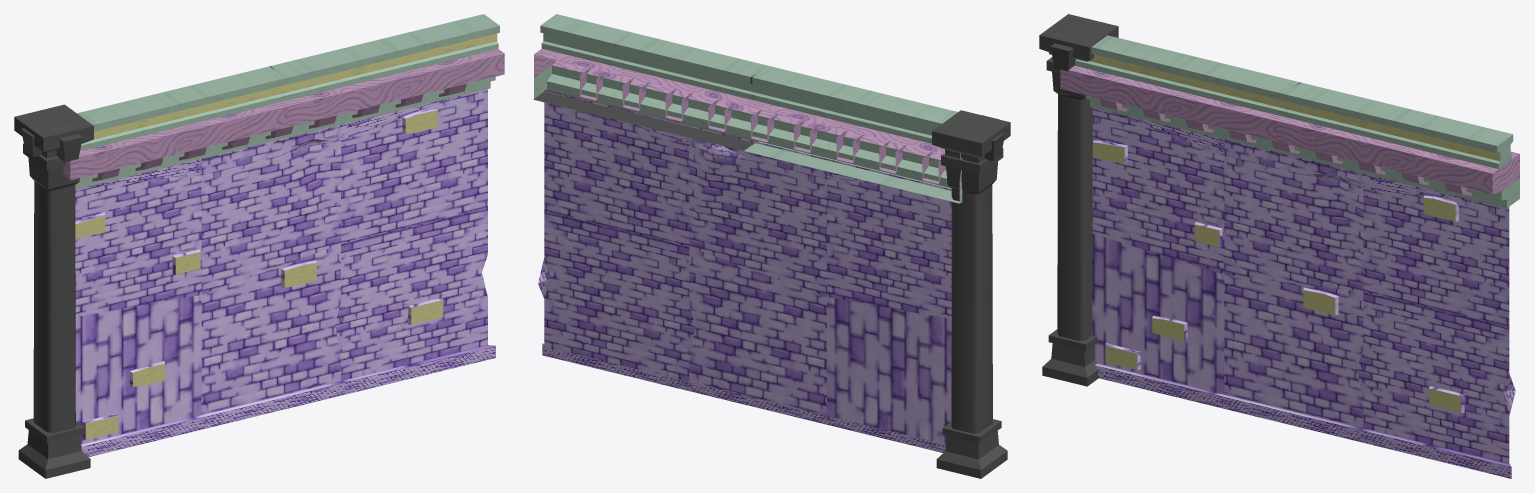
File: House_Wall_05_1Pillars.fbx
3 views of the same model, side by side, from view 1: azimuth 30°, elevation 25°; view 2: azimuth 150°, elevation 25°; view 3: azimuth 330°, elevation 25° (orthographic).
Parts seen in each view (by area): view 1: Ceiling.001; view 2: Ceiling.001; view 3: Ceiling.001.
Boxes of the visible parts, x1,y1,x2,y2 form: Ceiling.001: (14, 14, 504, 478); Ceiling.001: (533, 14, 1010, 478); Ceiling.001: (1039, 14, 1519, 478).
Size of the model in its own units: 538 by 377 by 67.47.
